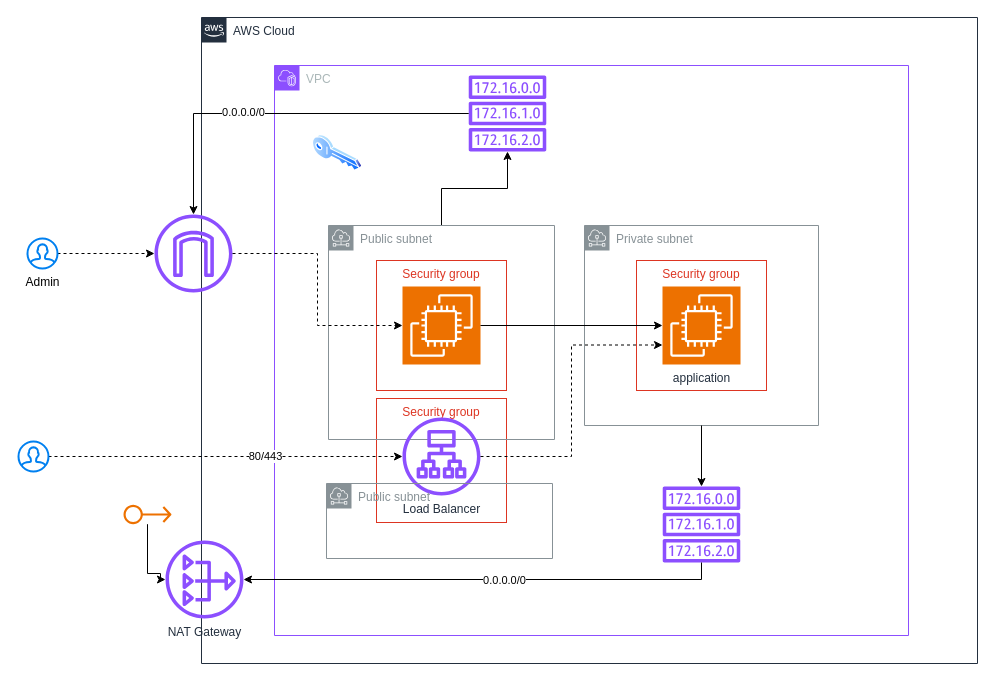
The diagram is 995 pixels wide and 681 high, and some of its shapes have lost their labels. The shapes that lost their labels are listed below. From the top down, each one's centre as x and y in pixels, then its label:
At point 507,113: "Public table".
At point 337,152: "KeyPair".
At point 193,253: "Internet Gateway".
At point 441,325: "bastion".
At point 33,456: "User".
At point 701,524: "Private table".
